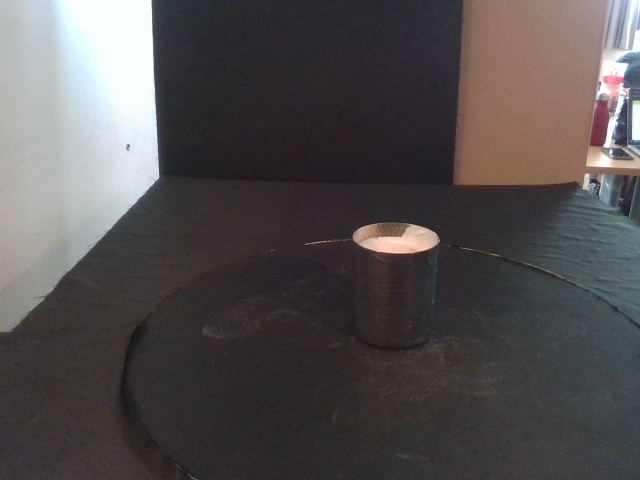candle: (352, 222, 442, 348)
